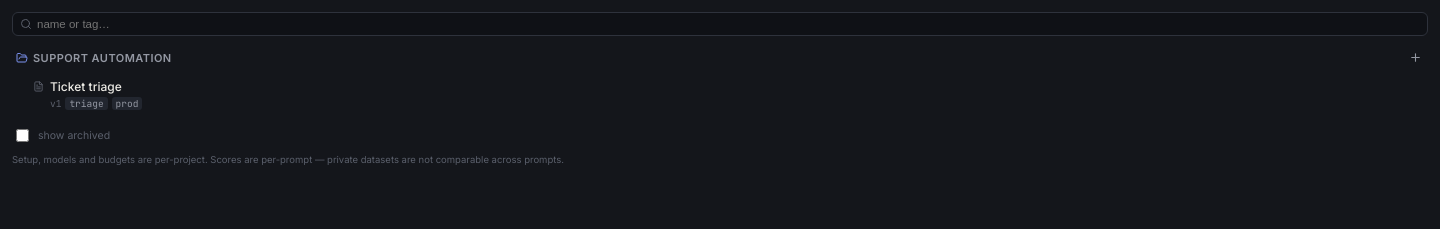
Test: ProjectTree › reveals archived prompts once 'show archived' is checked
Click the checkbox labelled "show archived".
click(22, 136)  # box left=16, top=129, right=29, bottom=142
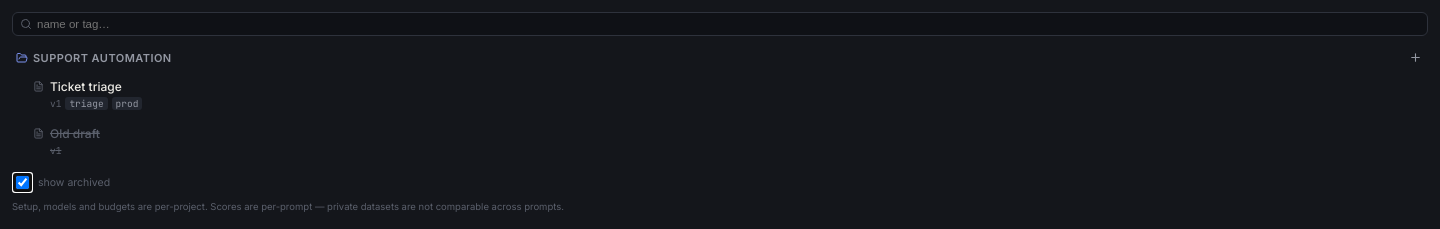
Now the text "Old draft" is shown, box left=50, top=126, right=100, bottom=141
